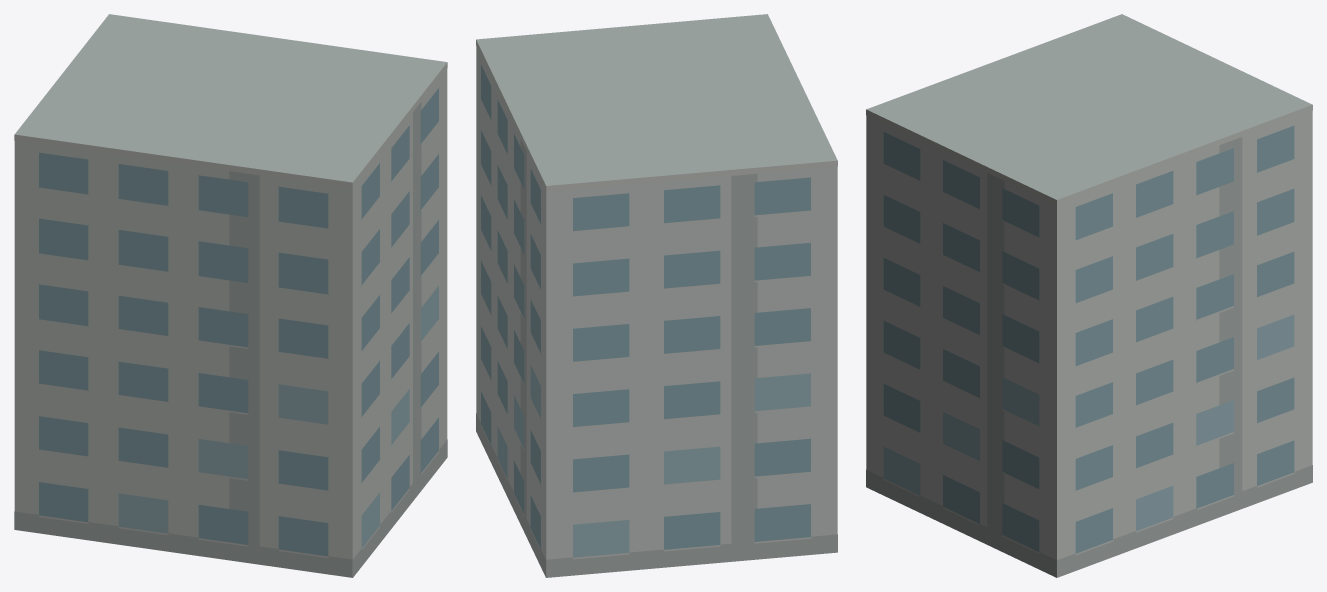
Rendered from survey-upis-32933975.glb.
The picture shows the model from 3 angles, left to right: view 1: azimuth 30°, elevation 25°; view 2: azimuth 150°, elevation 25°; view 3: azimuth 270°, elevation 25°; orthographic projection. The views are drawn at different scales.
Parts seen in each view (by area): view 1: survey-upis-32933975.tmp; view 2: survey-upis-32933975.tmp; view 3: survey-upis-32933975.tmp.
Part boxes in pixels (left/top/right/bottom): survey-upis-32933975.tmp: left=14, top=14, right=447, bottom=577; survey-upis-32933975.tmp: left=476, top=14, right=837, bottom=577; survey-upis-32933975.tmp: left=866, top=14, right=1312, bottom=577.
Bounding box in the file's own units: 16.59 × 15.7 × 16.82.
